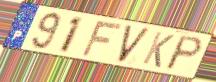1: (59, 16, 84, 56)
9: (31, 11, 63, 51)
F: (79, 21, 125, 58)
K: (140, 30, 176, 70)
P: (163, 34, 205, 72)
V: (117, 23, 153, 65)
